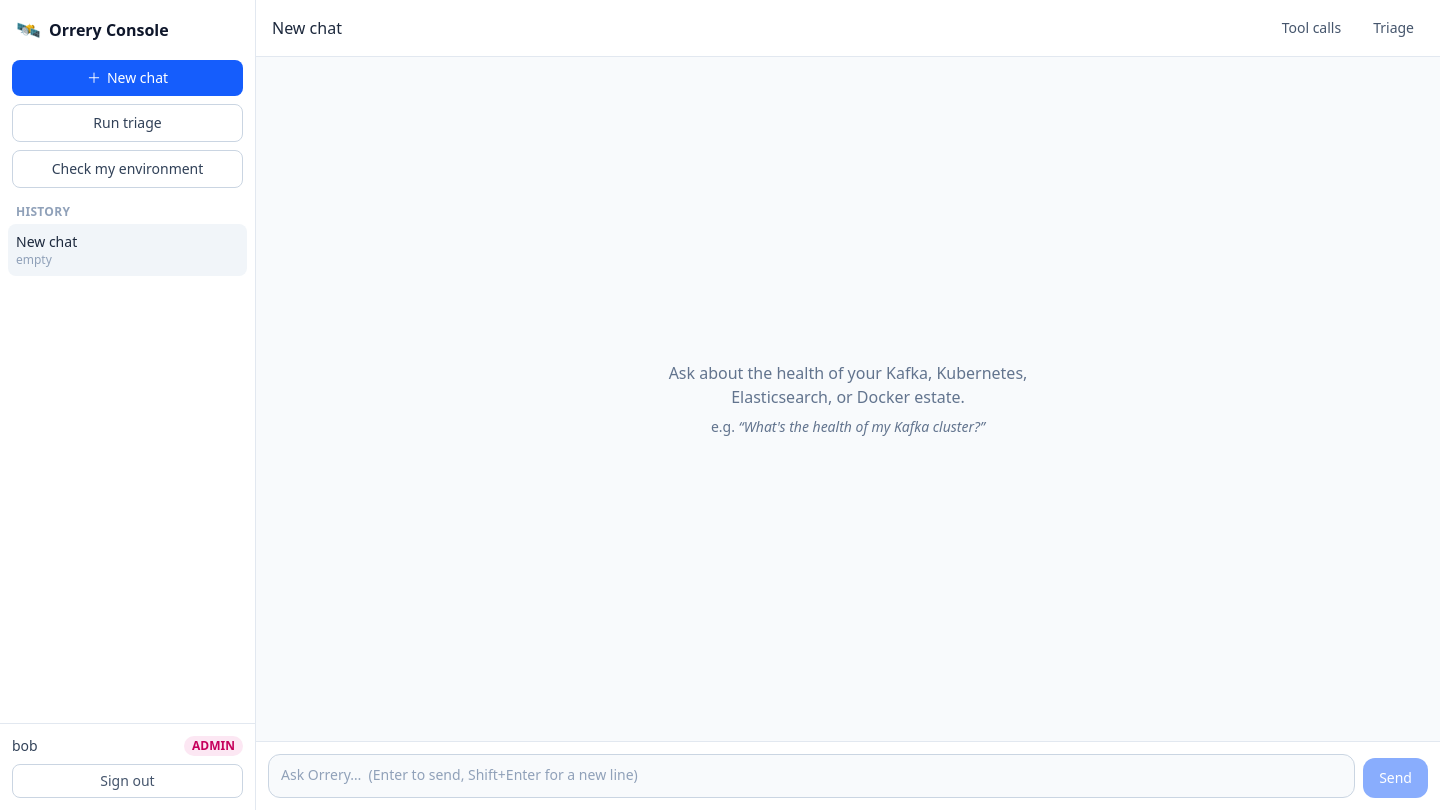
it: App auth flow › runs a triage and auto-opens the verdict report
The width and height of the screenshot is (1440, 810).
Click the button "Run triage": (128, 123) 12,104 -> 243,142
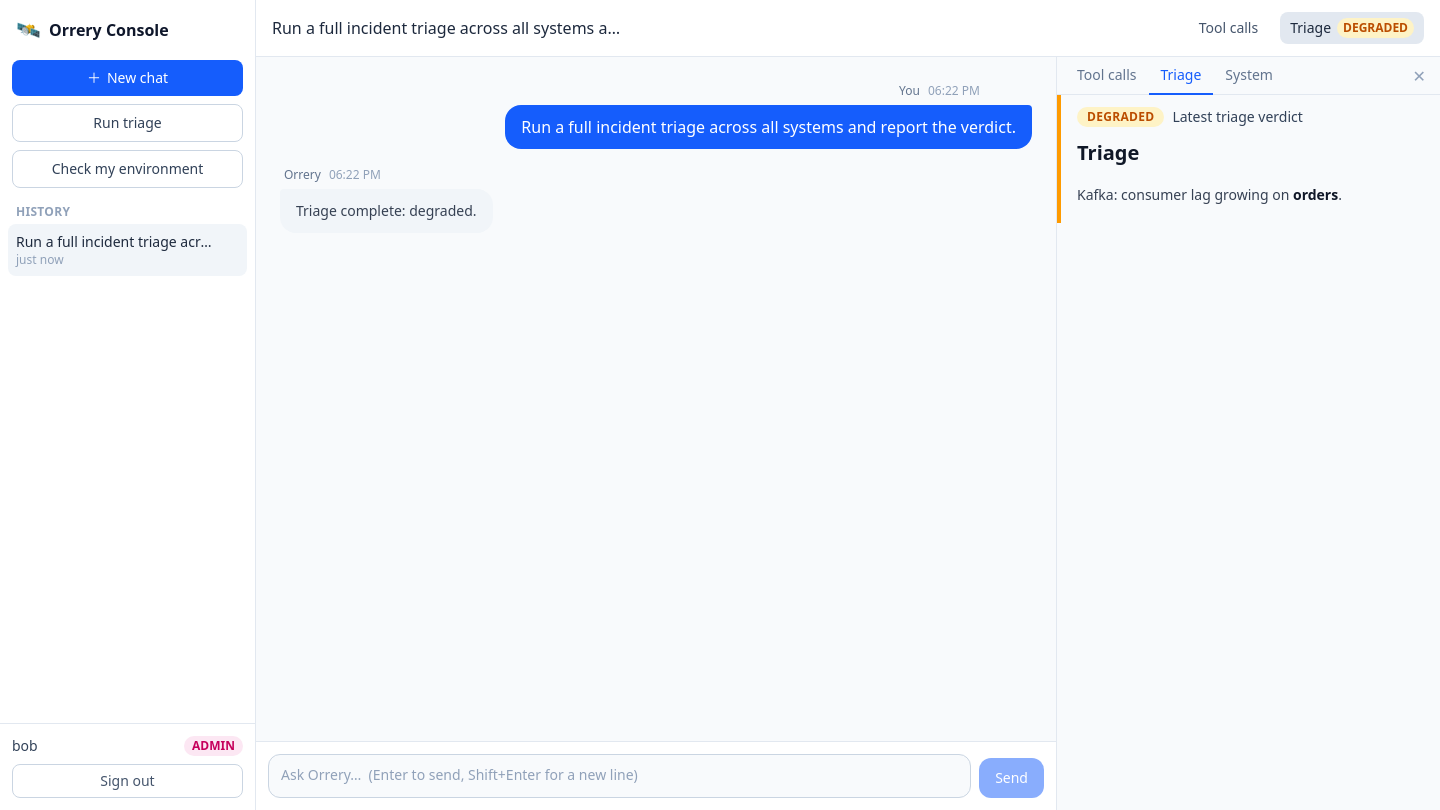
Check: the 1st text "degraded" is shown, box 1337,18 -> 1414,38
